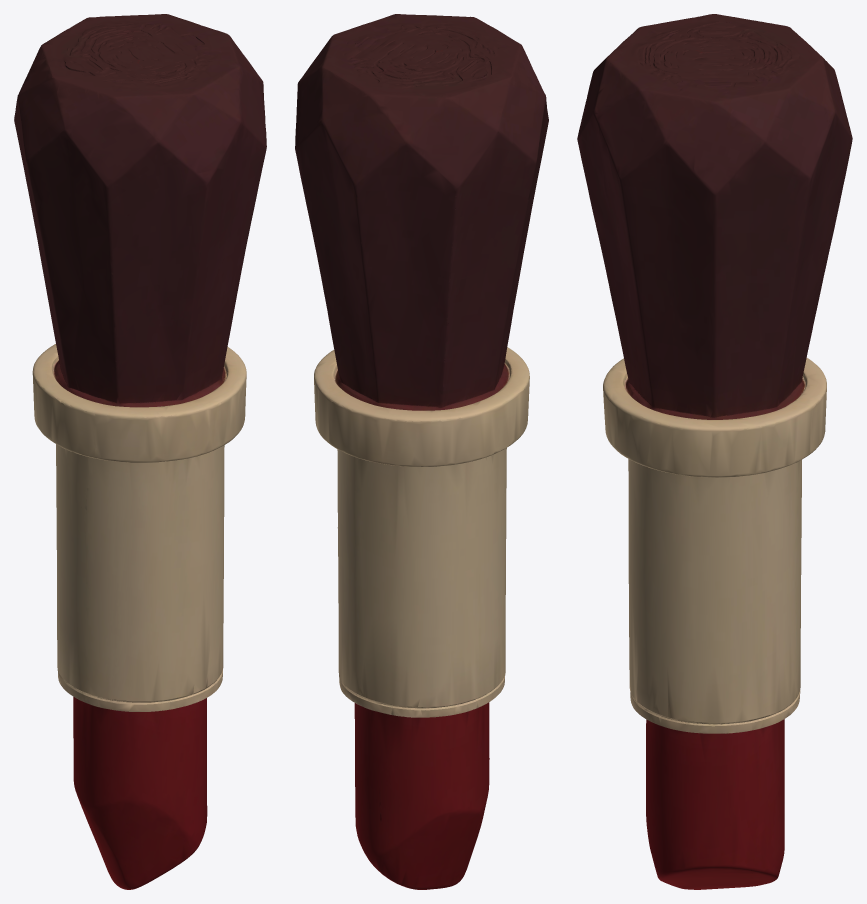
File: lipstick-crystal-red.glb
3 renders of one model, left to right at view 1: azimuth 30°, elevation 25°; view 2: azimuth 150°, elevation 25°; view 3: azimuth 270°, elevation 25°, orthographic. The views are drawn at different scales.
Visible parts, largest first — view 1: model; view 2: model; view 3: model.
Boxes of the visible parts, <box> form: model: <box>14,14,266,889</box>; model: <box>295,14,548,889</box>; model: <box>577,14,852,889</box>.
Bounding box in the file's own units: 0.5485 × 1.9 × 0.5601.
Materials: 1 (1 with a texture image).
